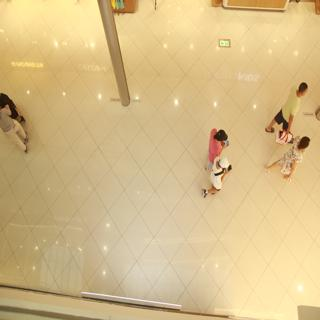person: (268, 132, 307, 189), (275, 77, 310, 139), (195, 161, 236, 202), (202, 122, 236, 156)
